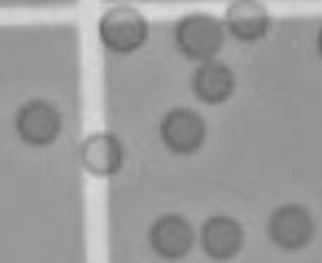cell: (11, 94, 66, 152), (155, 104, 212, 159), (95, 2, 153, 55), (173, 9, 227, 65), (187, 52, 238, 109), (74, 125, 127, 179), (263, 199, 316, 253), (143, 210, 198, 262), (195, 208, 245, 263), (223, 1, 274, 47)
